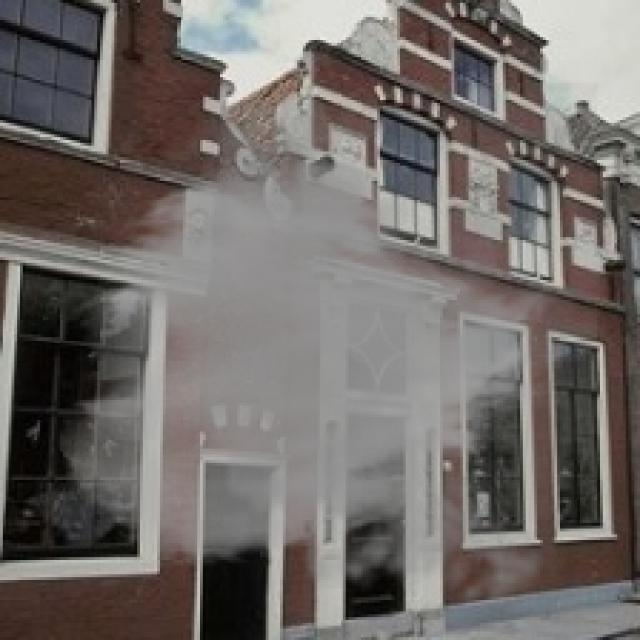Smoke: (54, 83, 597, 623)
